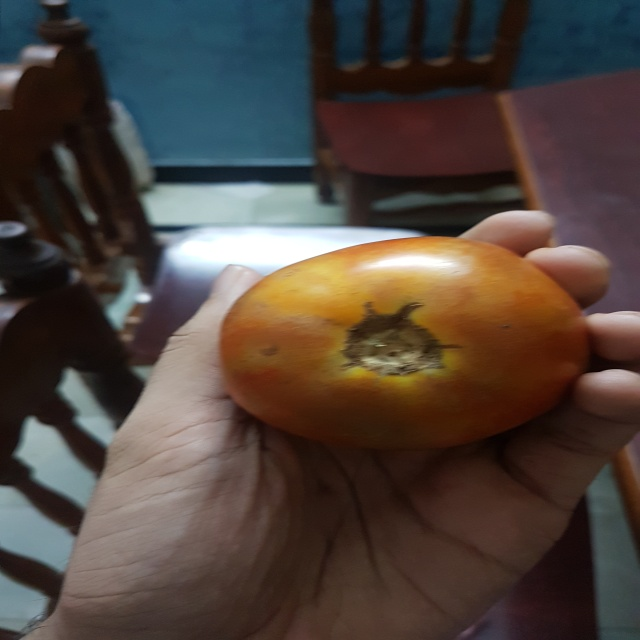tomato: (215, 226, 606, 448)
